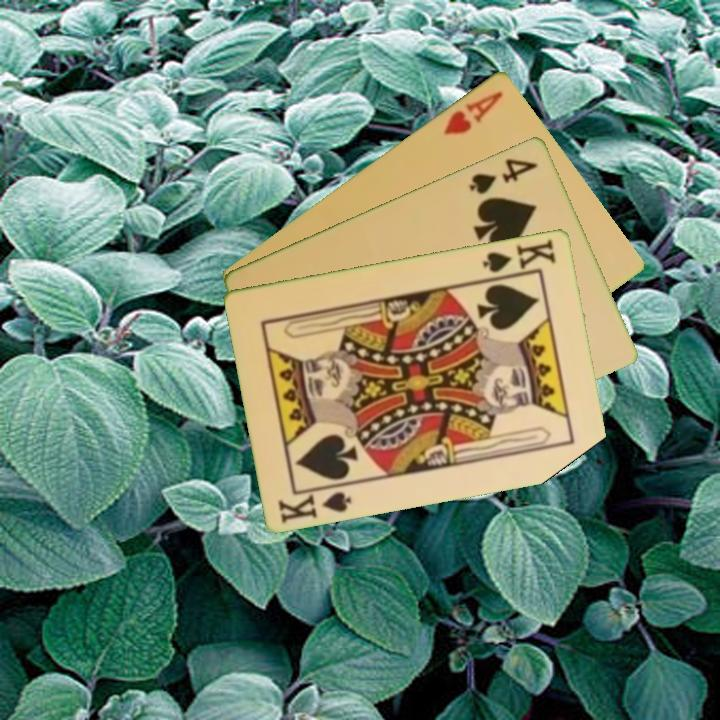4s: (465, 154, 541, 197)
Ah: (440, 87, 506, 138)
Ks: (275, 480, 355, 525), (479, 235, 559, 275)
